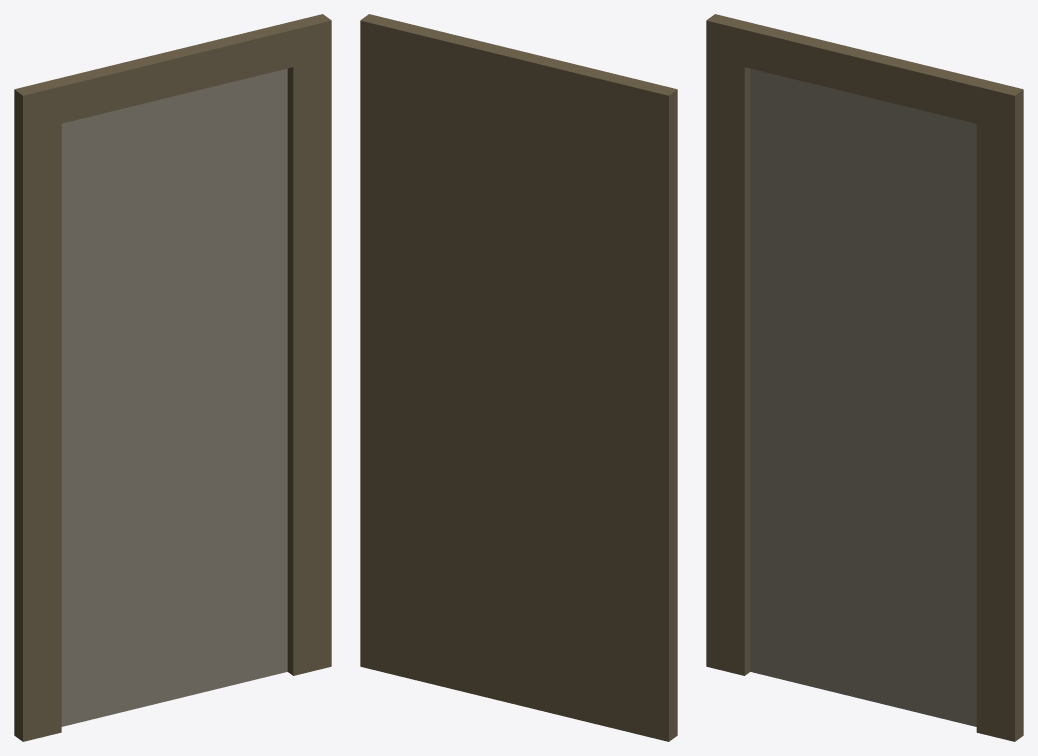
Rendered from Door_Base.fbx.
3 views of the same model, side by side, from view 1: azimuth 30°, elevation 25°; view 2: azimuth 150°, elevation 25°; view 3: azimuth 330°, elevation 25° (orthographic).
Parts seen in each view (by area): view 1: Door_Base; view 2: Door_Base; view 3: Door_Base.
Part boxes in pixels (x1,y1,x2,y2): Door_Base: (14,14,331,741); Door_Base: (360,14,677,741); Door_Base: (706,14,1023,741).
Size of the model in its own units: 5 by 10 by 0.25.
